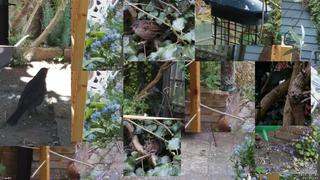blackbird: (6, 67, 51, 126)
dunnock: (129, 20, 175, 46)
mouse: (142, 139, 161, 156)
